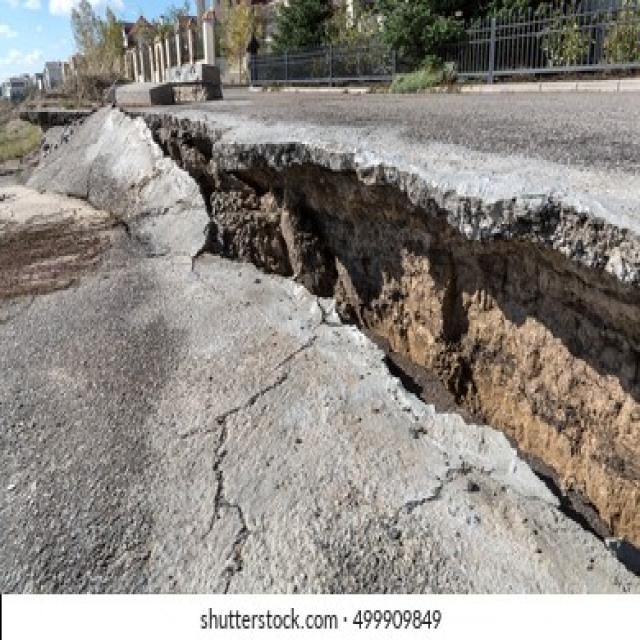road collapse: (39, 24, 640, 566)
